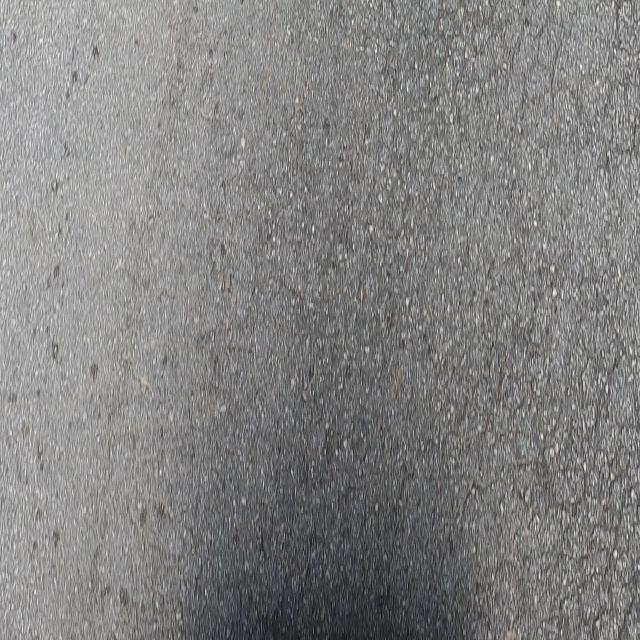Retak-Buaya: (370, 0, 639, 637)
